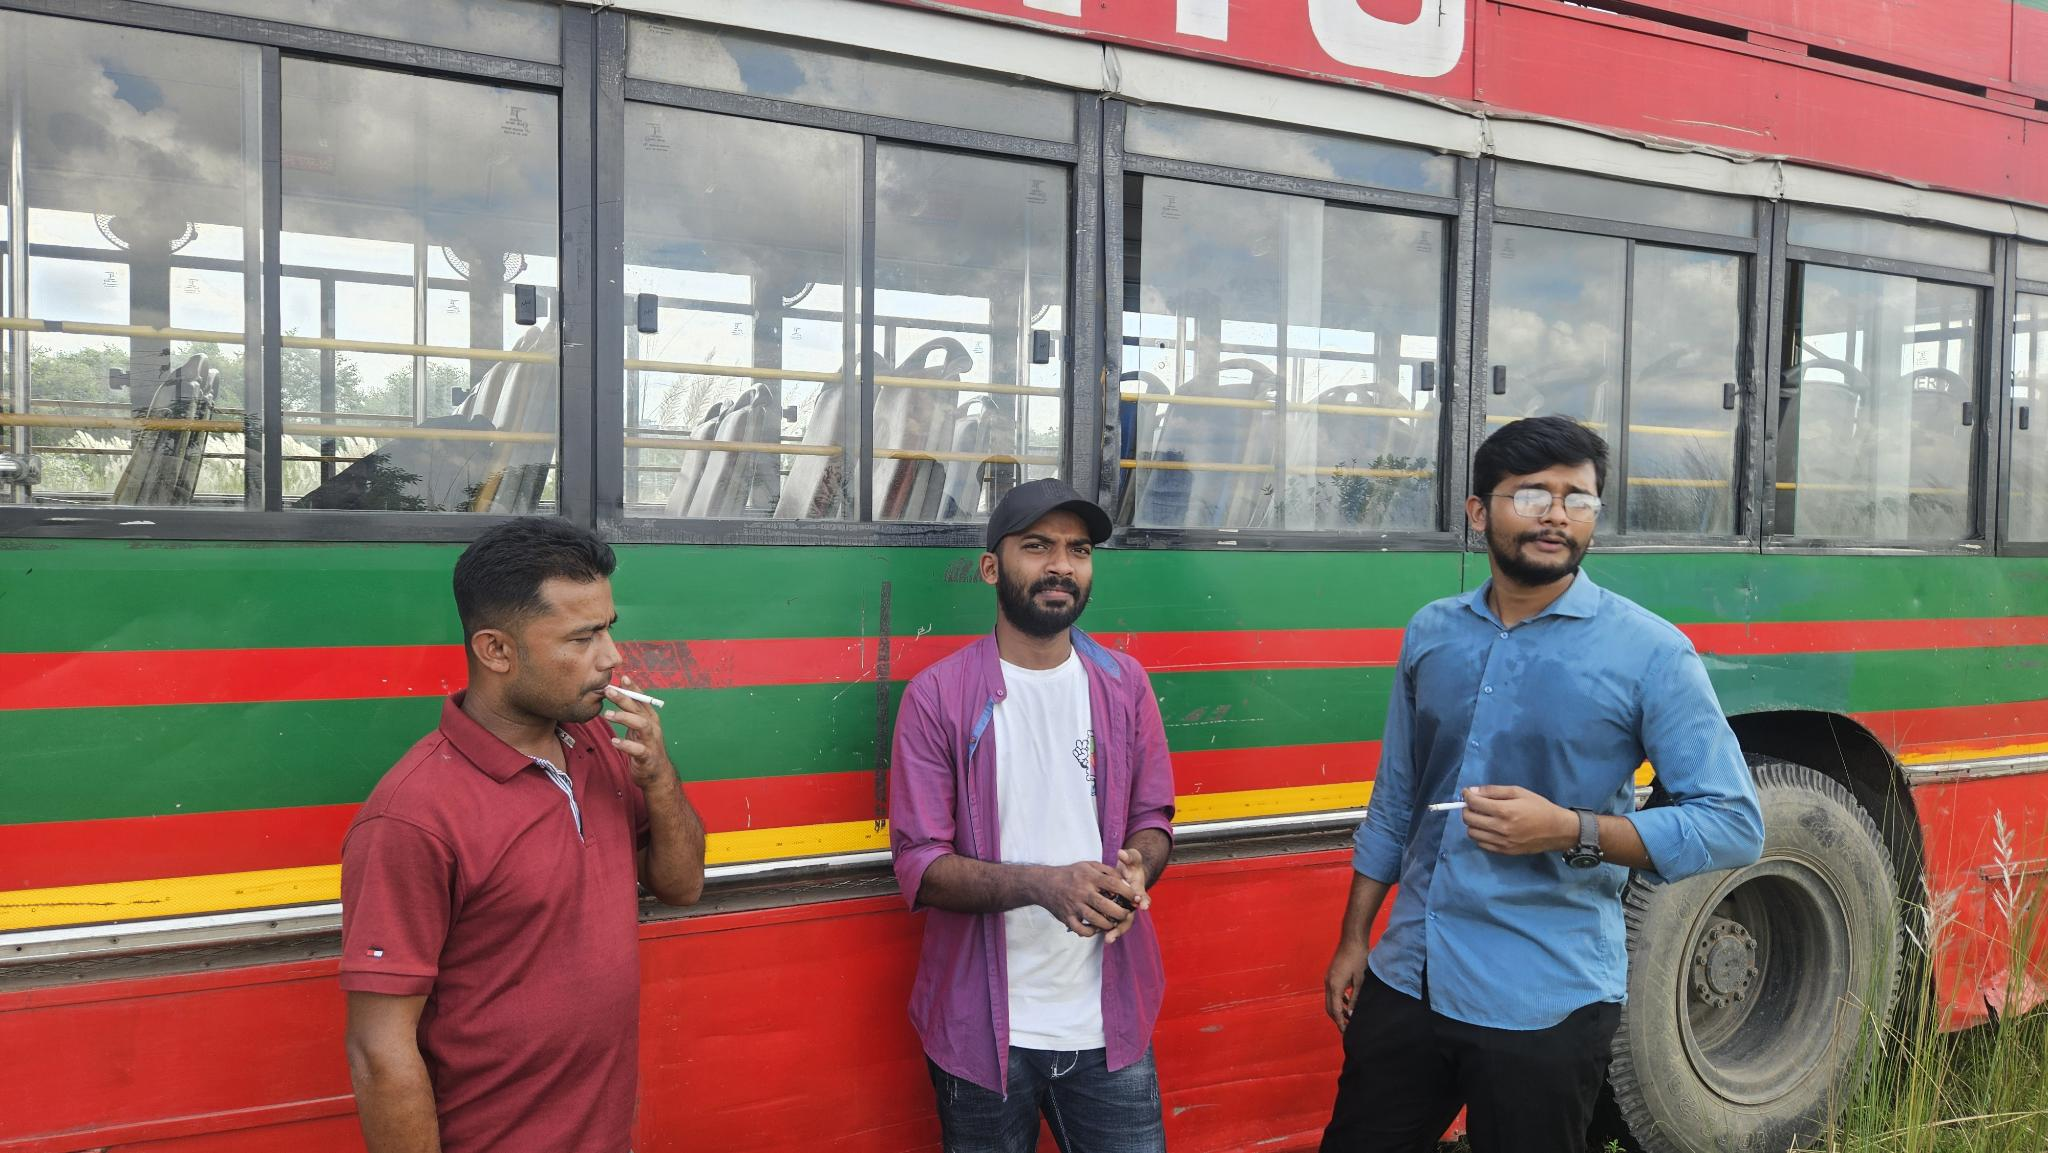cigarette: (602, 681, 665, 711), (1425, 799, 1470, 816)
nonSmoker: (888, 478, 1176, 1153)
smoker: (1318, 418, 1767, 1153), (340, 516, 708, 1153)
